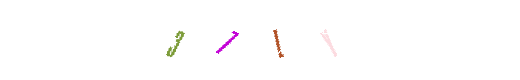3: (177, 0, 257, 80)
7: (177, 0, 257, 80)
L: (187, 0, 267, 80)
Y: (220, 0, 300, 80)
